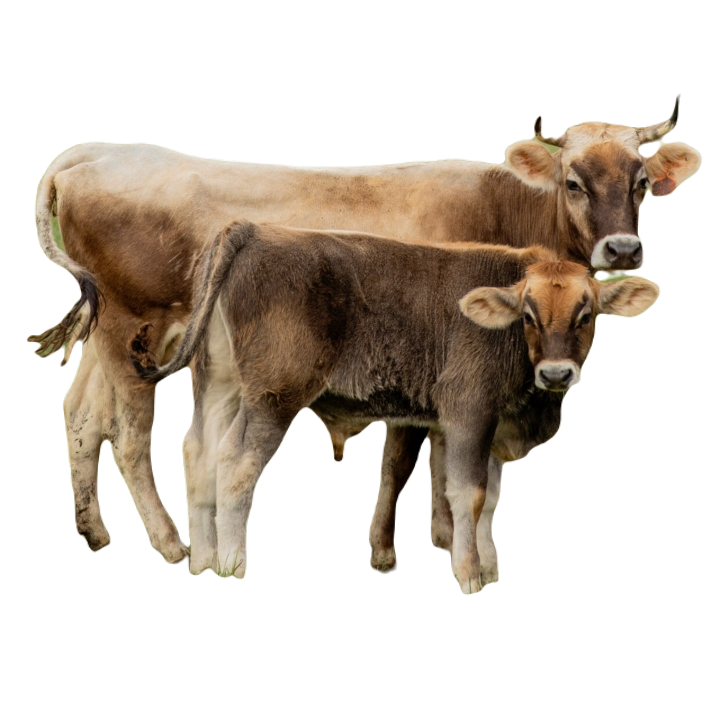Cow: (182, 224, 659, 589)
